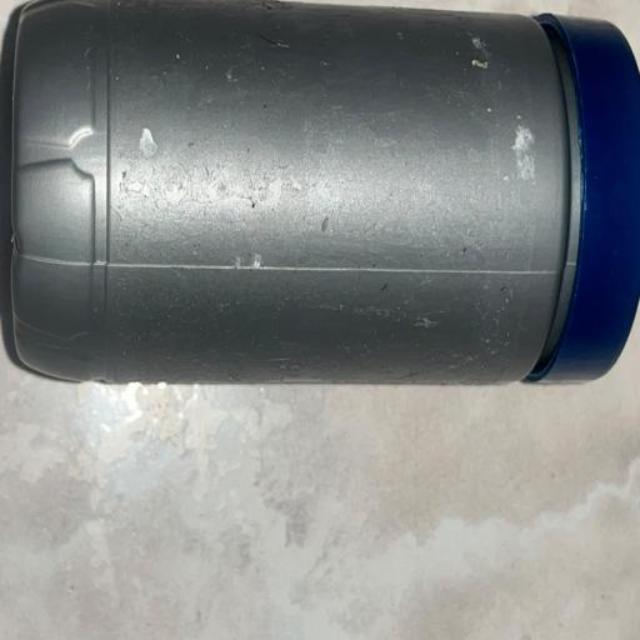HDPE: (12, 2, 640, 419)
